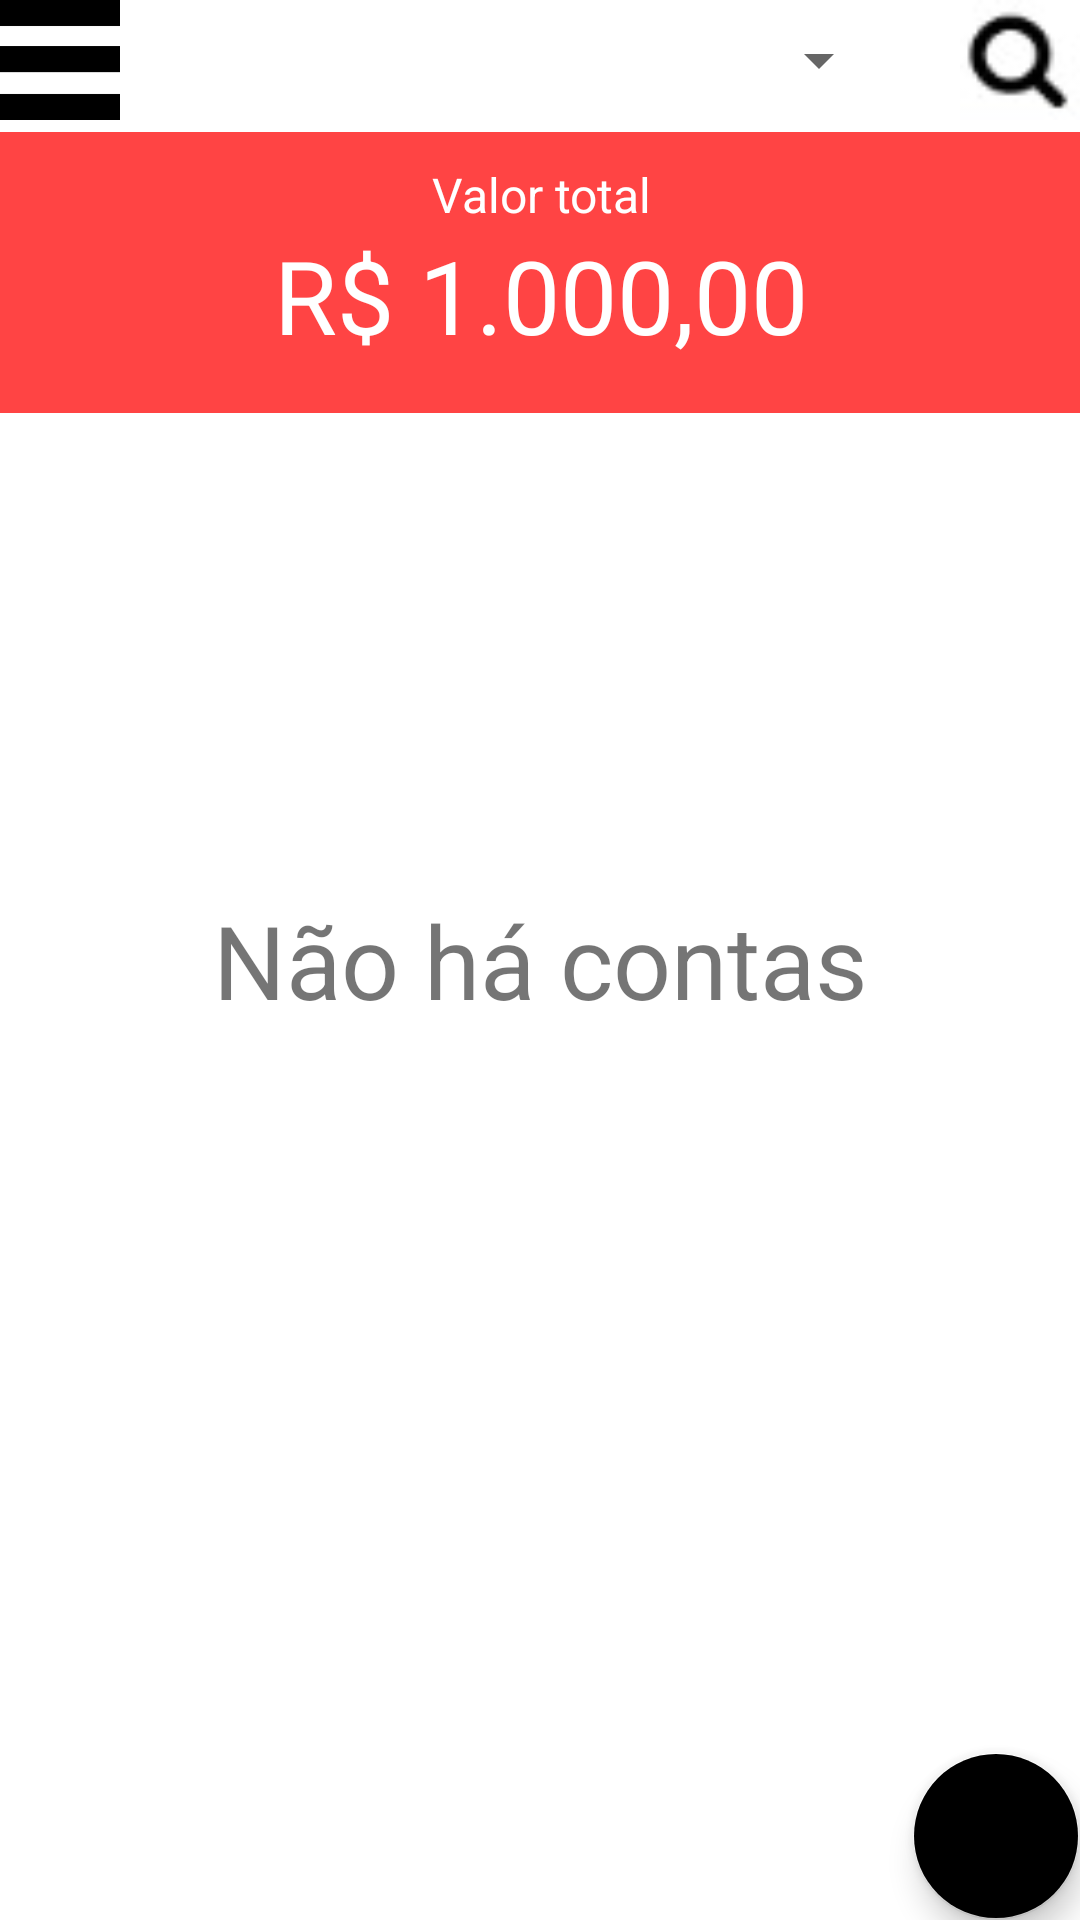

Icon click points for this 1080 × 1920 phone screenshot, format [x,y]:
hamburguer list: [60,60]
lupa: [1017,60]
